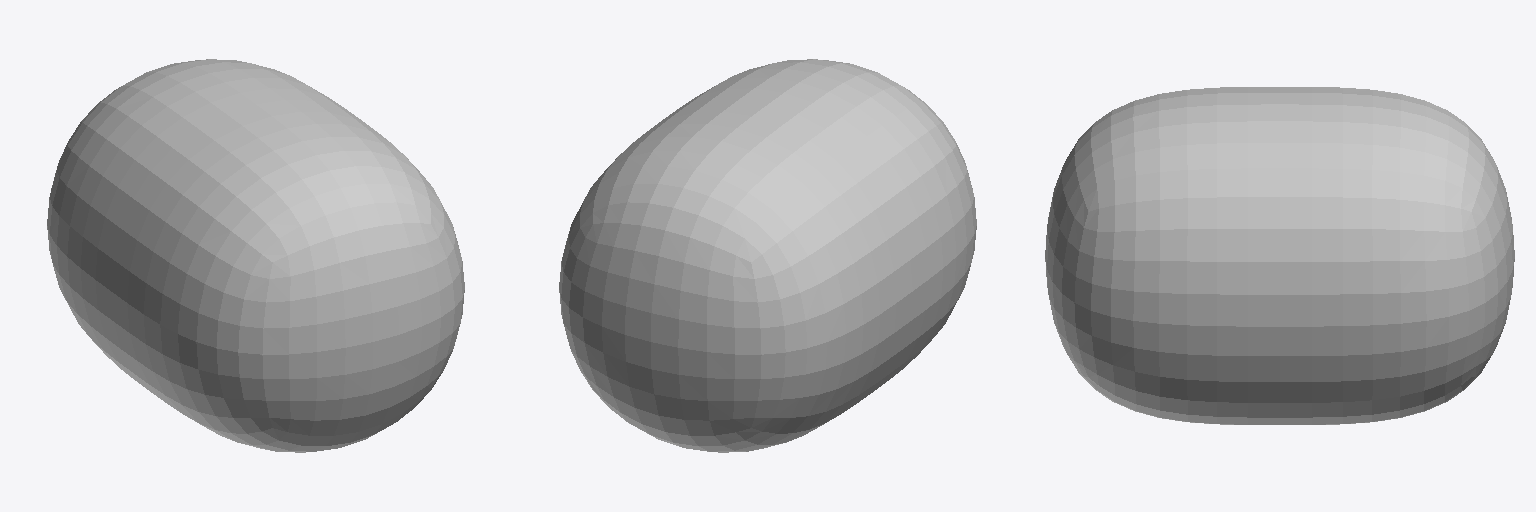
Rendered from body.obj.
3 renders of one model, left to right at view 1: azimuth 30°, elevation 25°; view 2: azimuth 150°, elevation 25°; view 3: azimuth 270°, elevation 25°, orthographic.
Parts seen in each view (by area): view 1: Body_Cube; view 2: Body_Cube; view 3: Body_Cube.
Part boxes in pixels (x1,y1,x2,y2): Body_Cube: (47,59,464,452); Body_Cube: (559,59,976,452); Body_Cube: (1045,87,1514,424).
Size of the model in its own units: 0.9167 by 0.9167 by 1.29.